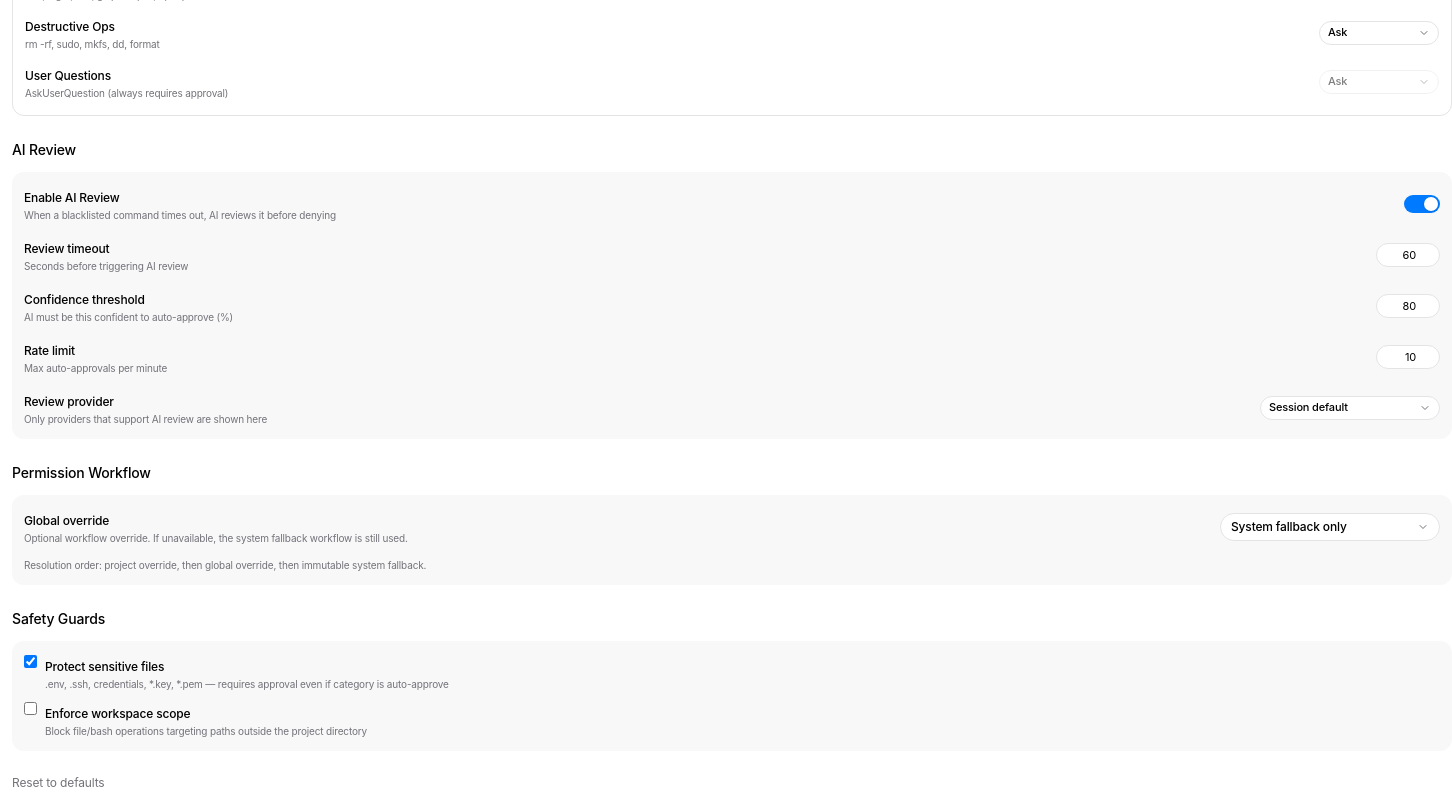
PermissionSettings › lists non-system workflows as global override options
(page scrolled)
Expected: the text "Global override" is shown, [24,513,109,528]
Click the button "System fallback only": (1330, 526) [1220,512,1440,540]
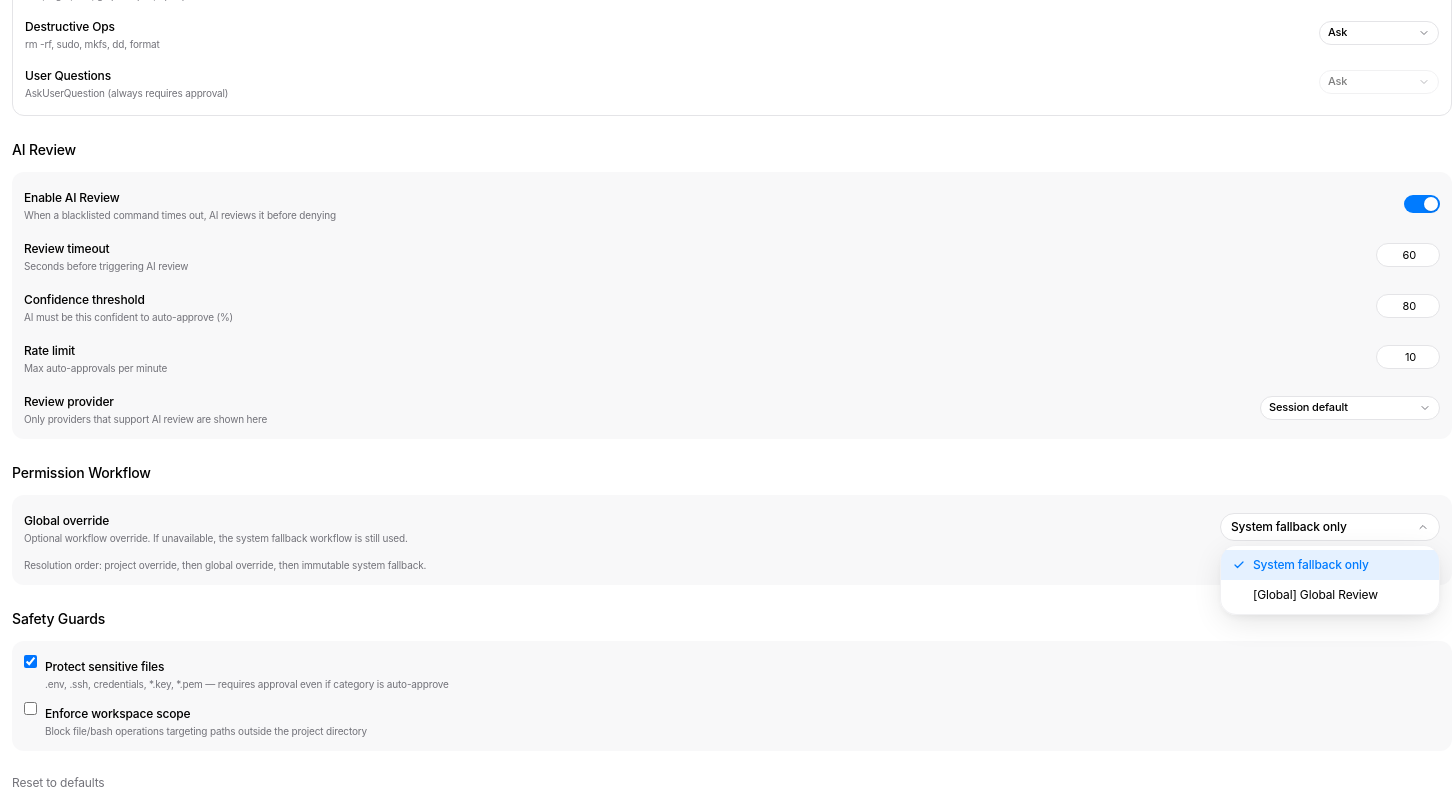
Result: the option "[Global] Global Review" is shown at [1221,580,1439,610]
